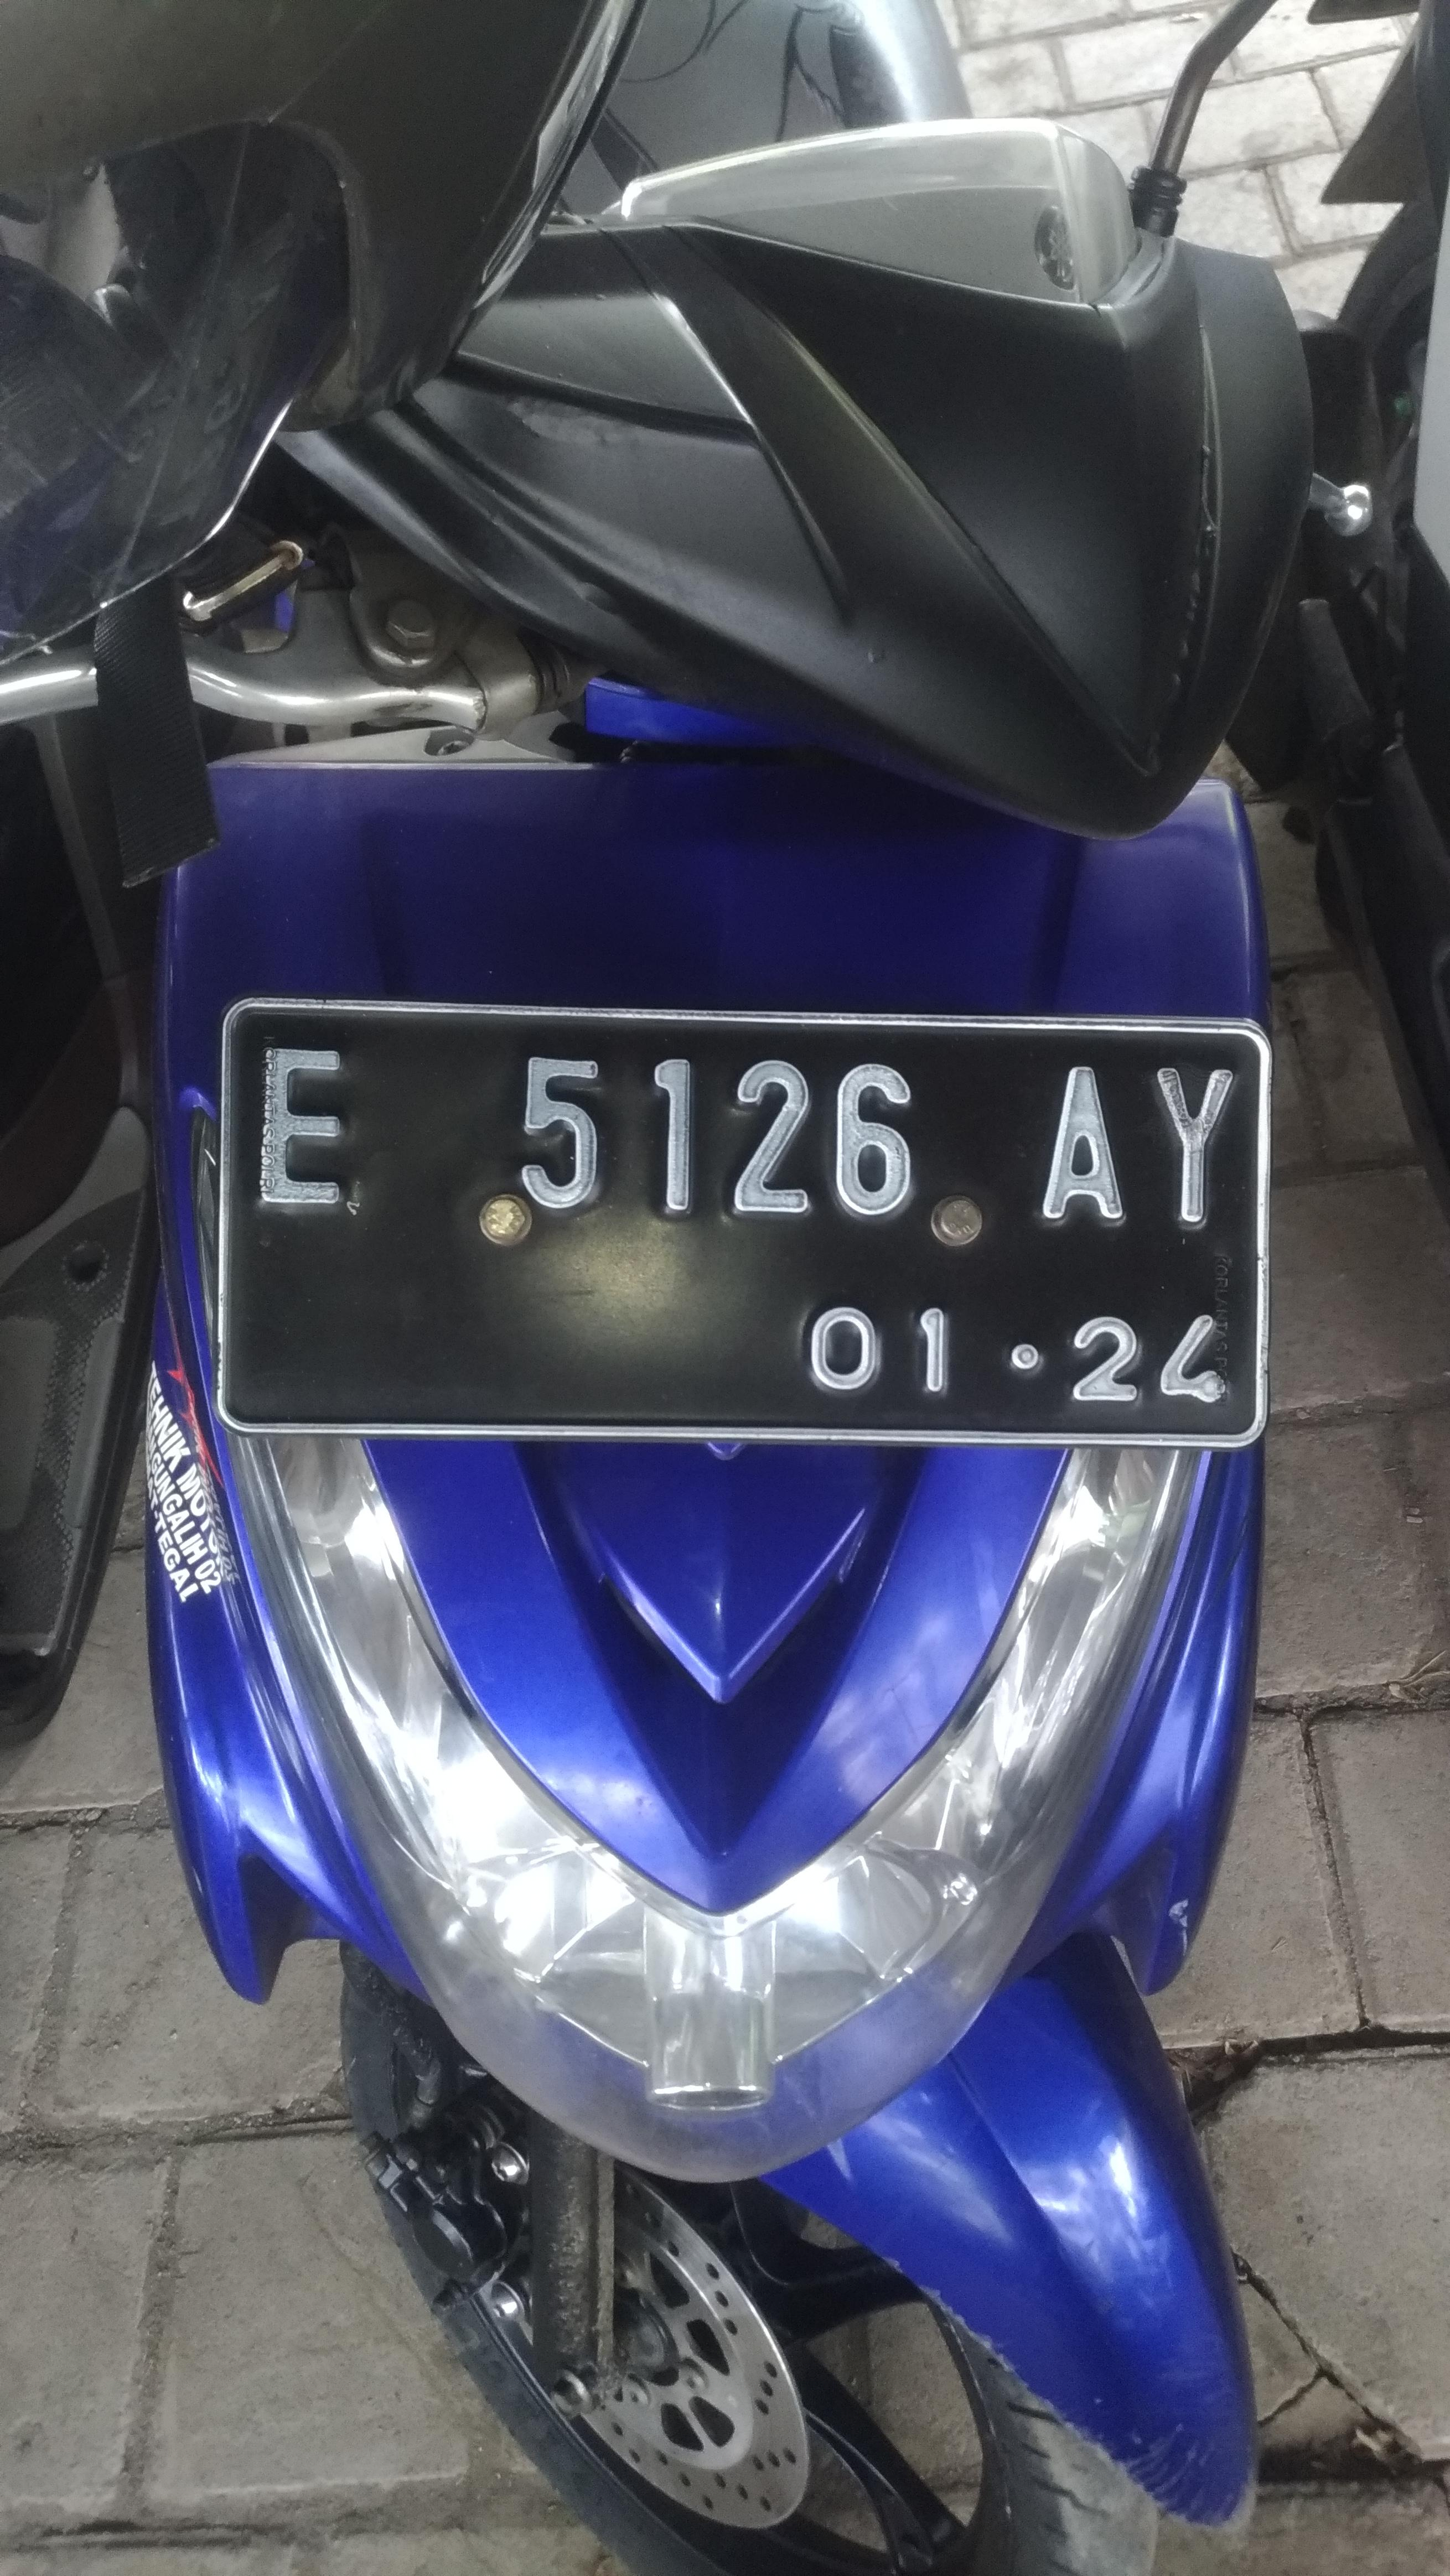plat: (216, 996, 1268, 1449)
